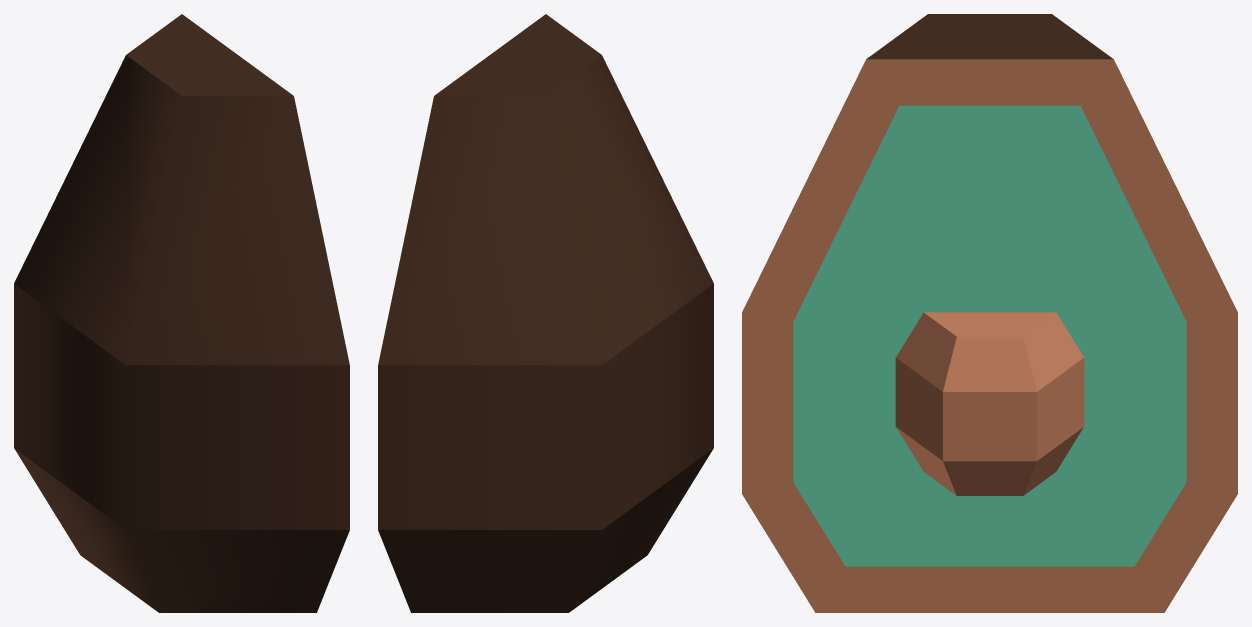
The model's file is Avocado Half.glb.
The picture shows the model from 3 angles, left to right: view 1: azimuth 30°, elevation 25°; view 2: azimuth 150°, elevation 25°; view 3: azimuth 270°, elevation 25°; orthographic projection. The views are drawn at different scales.
Parts seen in each view (by area): view 1: avocadoHalf; view 2: avocadoHalf; view 3: avocadoHalf, pit.
Part boxes in pixels (left/top/right/bottom): avocadoHalf: left=14, top=14, right=349, bottom=612; avocadoHalf: left=378, top=14, right=713, bottom=612; avocadoHalf: left=742, top=14, right=1237, bottom=612; pit: left=895, top=312, right=1084, bottom=495.
Bounding box in the file's own units: 0.1036 × 0.2137 × 0.1734.
